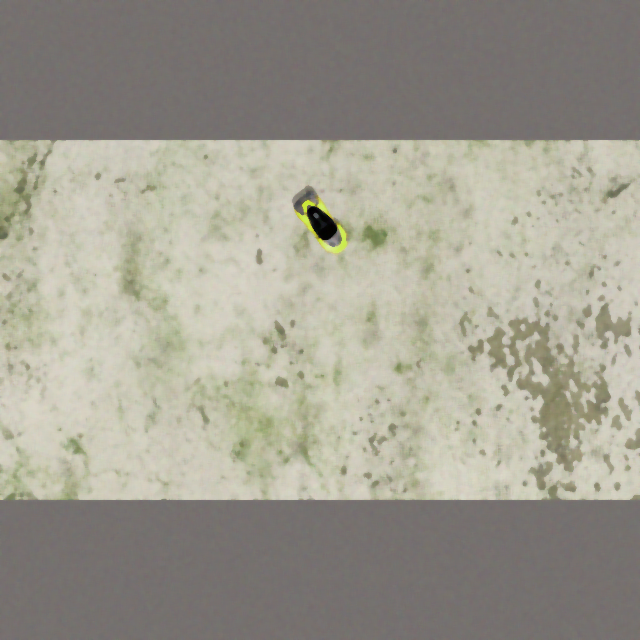car: (289, 186, 355, 259)
